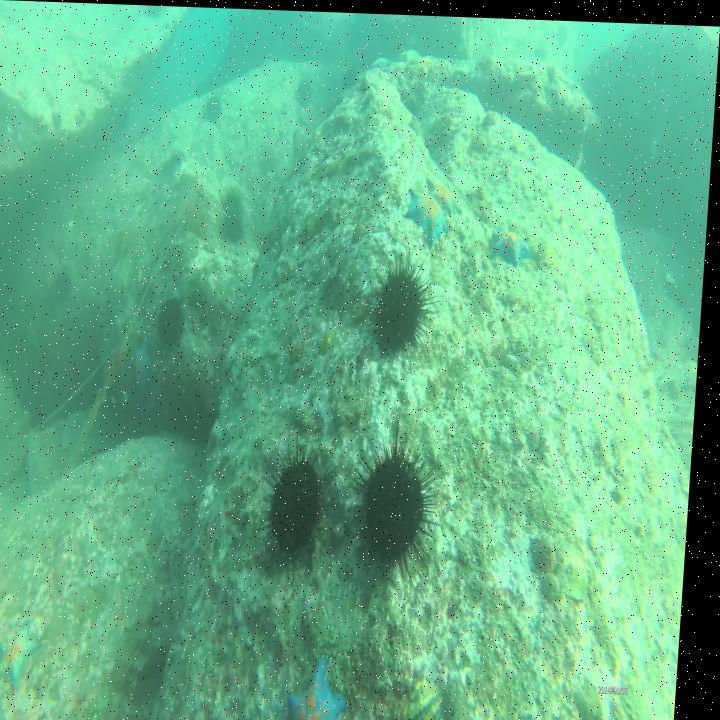echinus: (356, 427, 440, 576), (271, 437, 341, 557), (370, 250, 439, 354), (159, 299, 192, 348), (220, 182, 248, 222), (223, 205, 250, 246), (202, 91, 227, 124), (296, 79, 317, 107)
starfish: (295, 653, 362, 720), (0, 616, 48, 695), (407, 180, 454, 244), (495, 221, 538, 269), (427, 168, 466, 215), (135, 339, 161, 393), (410, 45, 436, 78)
